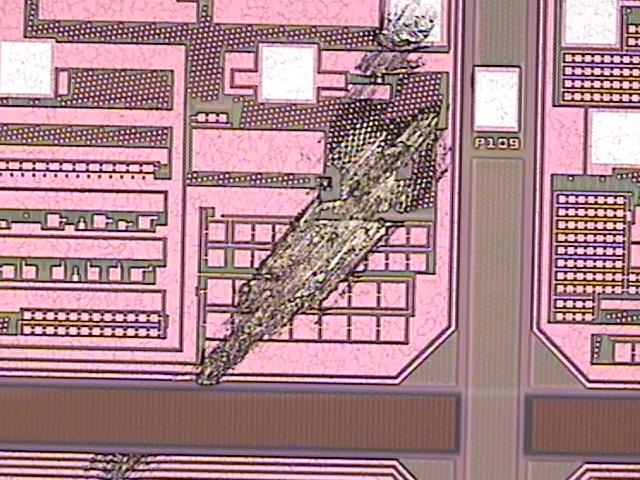SCRATCH: (81, 1, 466, 480)
